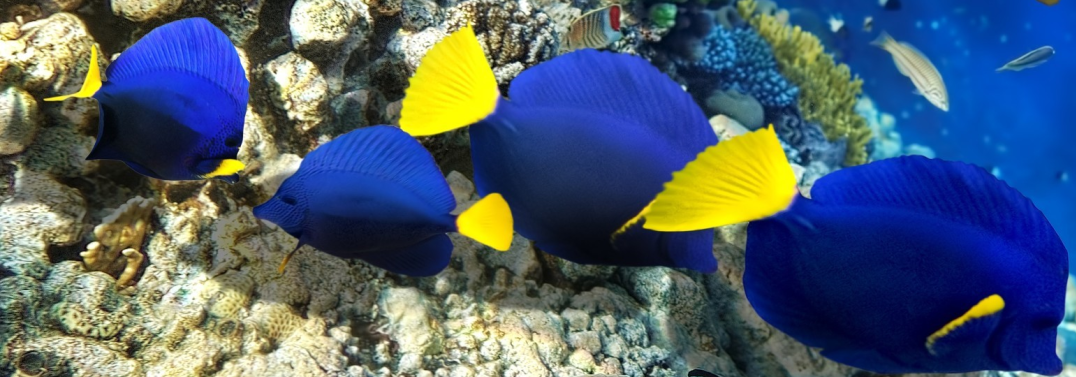fishRound: (615, 124, 1067, 374), (399, 22, 721, 274), (251, 125, 514, 279), (40, 16, 253, 186)
fishSmall: (869, 23, 949, 114), (994, 45, 1056, 75)
